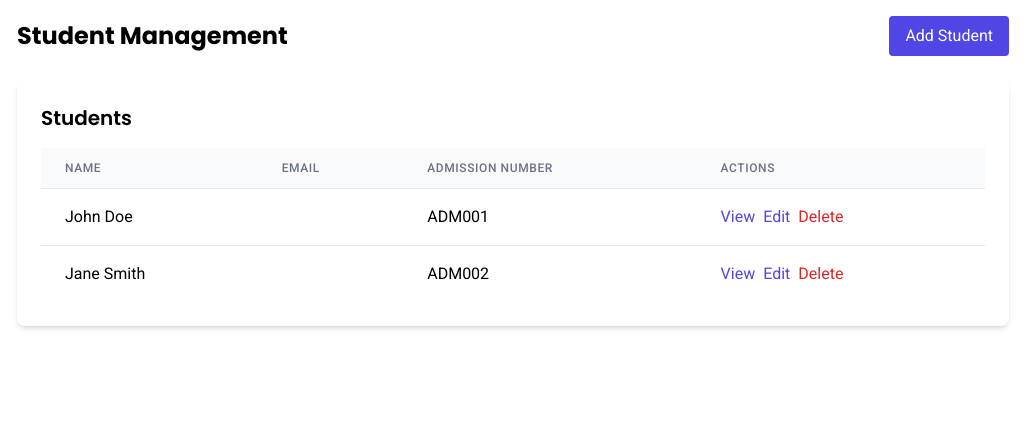
Test: Student Management Integration › displays student list and navigates to detail page
Expected: the text "Jane Smith" is shown, [41,246,258,302]
Click on a student to navigate to detail page
What coordinates should you click on to do the following:
click the text "John Doe"
I would click on:
 (99, 216)
Its box is [41,188,258,246].
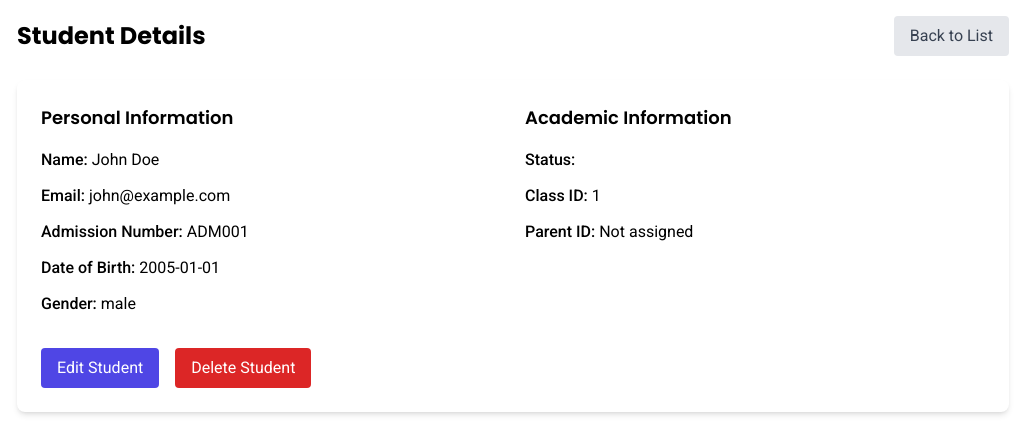
Result: the heading "Student Details" is shown at [17,20,206,52]
Result: the text "john@example.com" is shown at [89,186,230,205]
